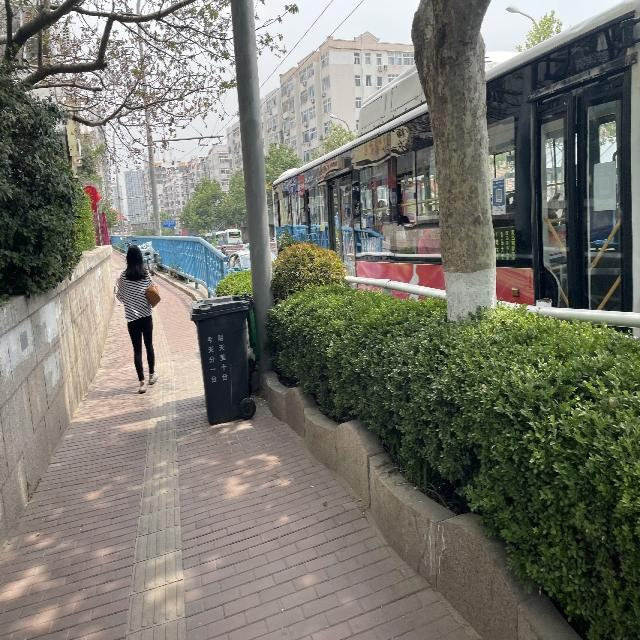garbage_bin: (189, 293, 252, 424)
